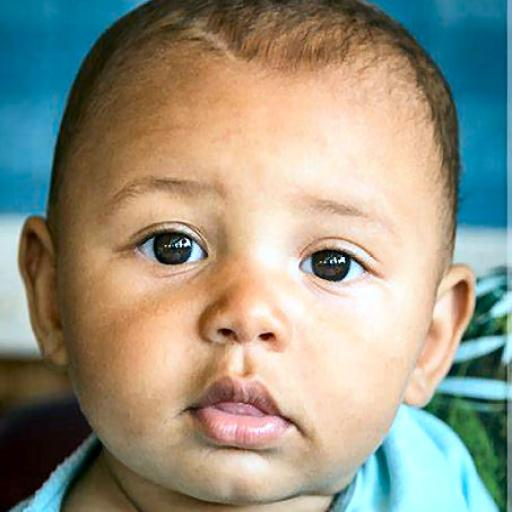Autism: (6, 10, 503, 489)
